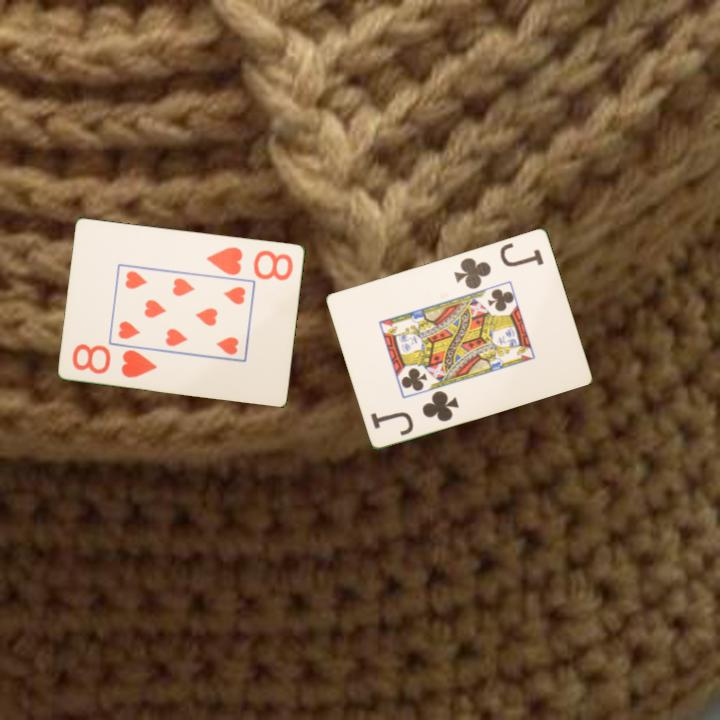8h: (203, 243, 297, 283), (69, 340, 160, 380)
Jc: (451, 239, 547, 292), (367, 387, 462, 438)
